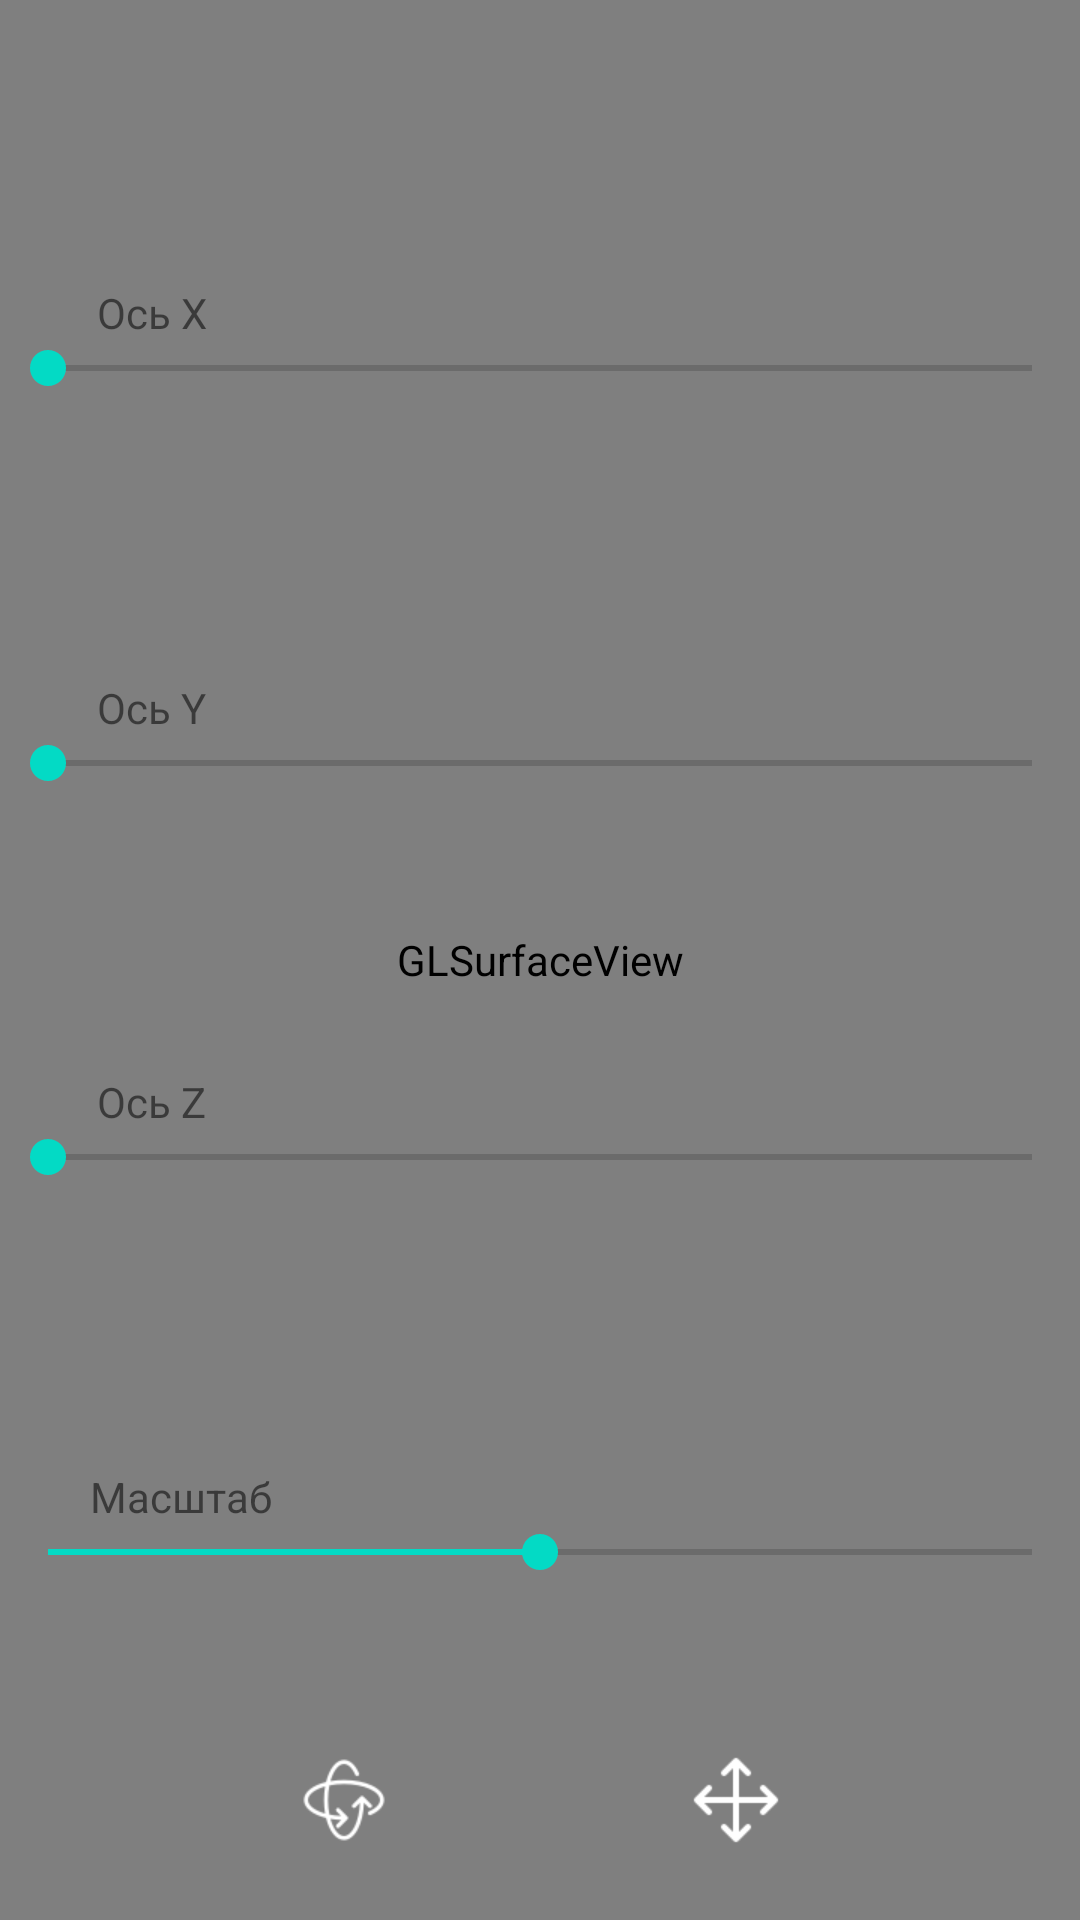

Where to tap for icons on this 1080px×1920px app screen, as [x,y]:
rotate: [344,1800]
translate: [736,1800]
